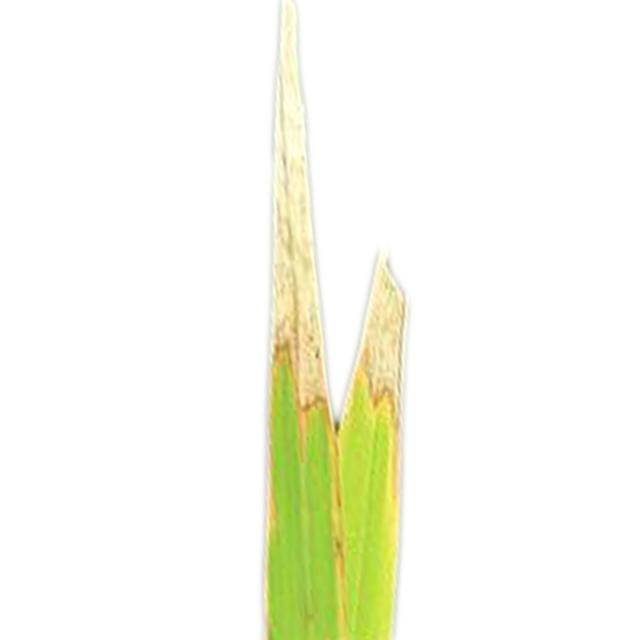Leaf scald: (213, 10, 515, 640)
